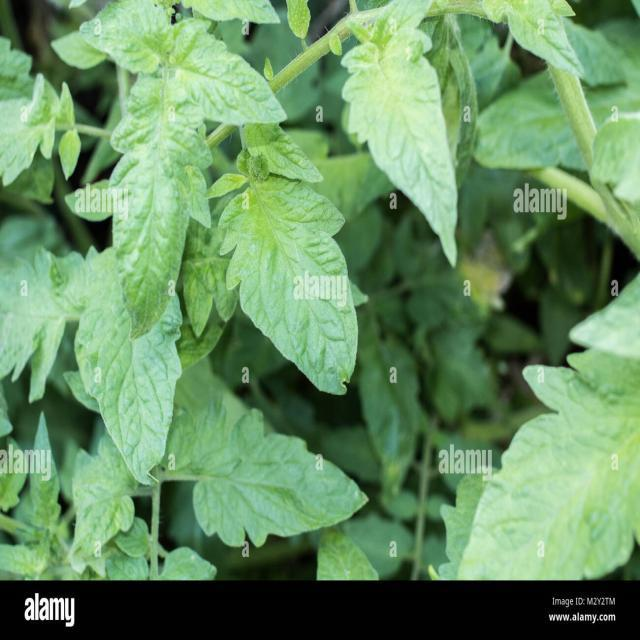Healthy Leaf: (342, 23, 477, 276), (218, 175, 362, 399), (167, 412, 376, 554), (112, 61, 209, 342), (80, 258, 180, 488), (158, 21, 294, 122)
